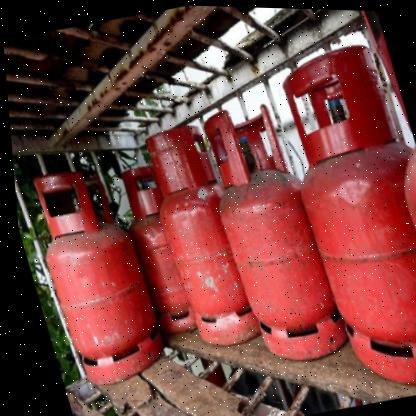gas-tank: (254, 38, 415, 406), (185, 90, 355, 387), (9, 145, 176, 405), (129, 114, 273, 377), (332, 7, 415, 386), (100, 148, 212, 351)
